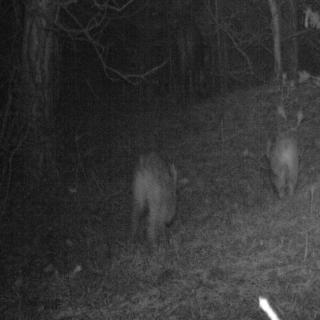Pig: (111, 110, 189, 259), (246, 99, 320, 237)
